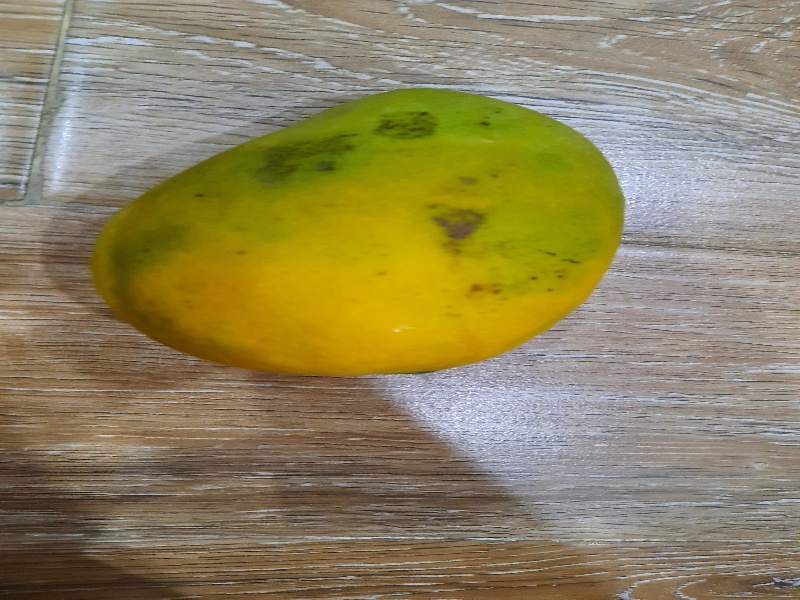fruit: (87, 84, 629, 377)
